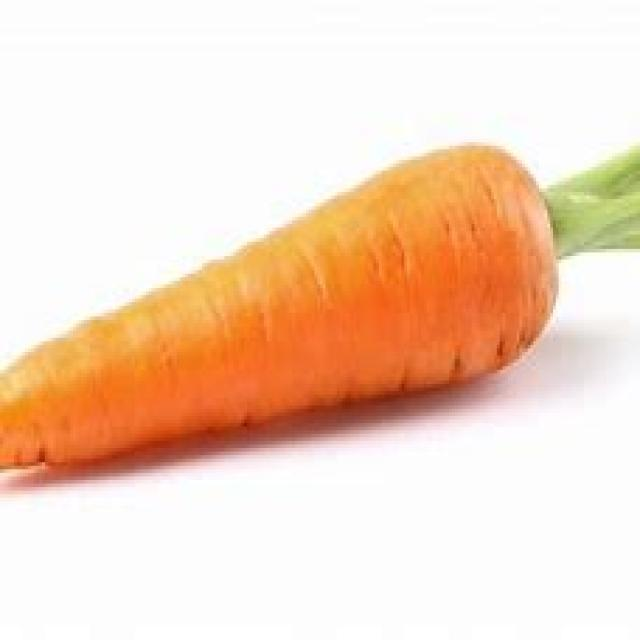carrot: (0, 145, 559, 474)
